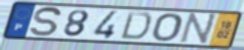4: (91, 10, 121, 41)
8: (62, 9, 90, 38)
D: (119, 10, 154, 41)
N: (177, 12, 219, 46)
O: (150, 12, 184, 43)
S: (29, 6, 63, 38)
